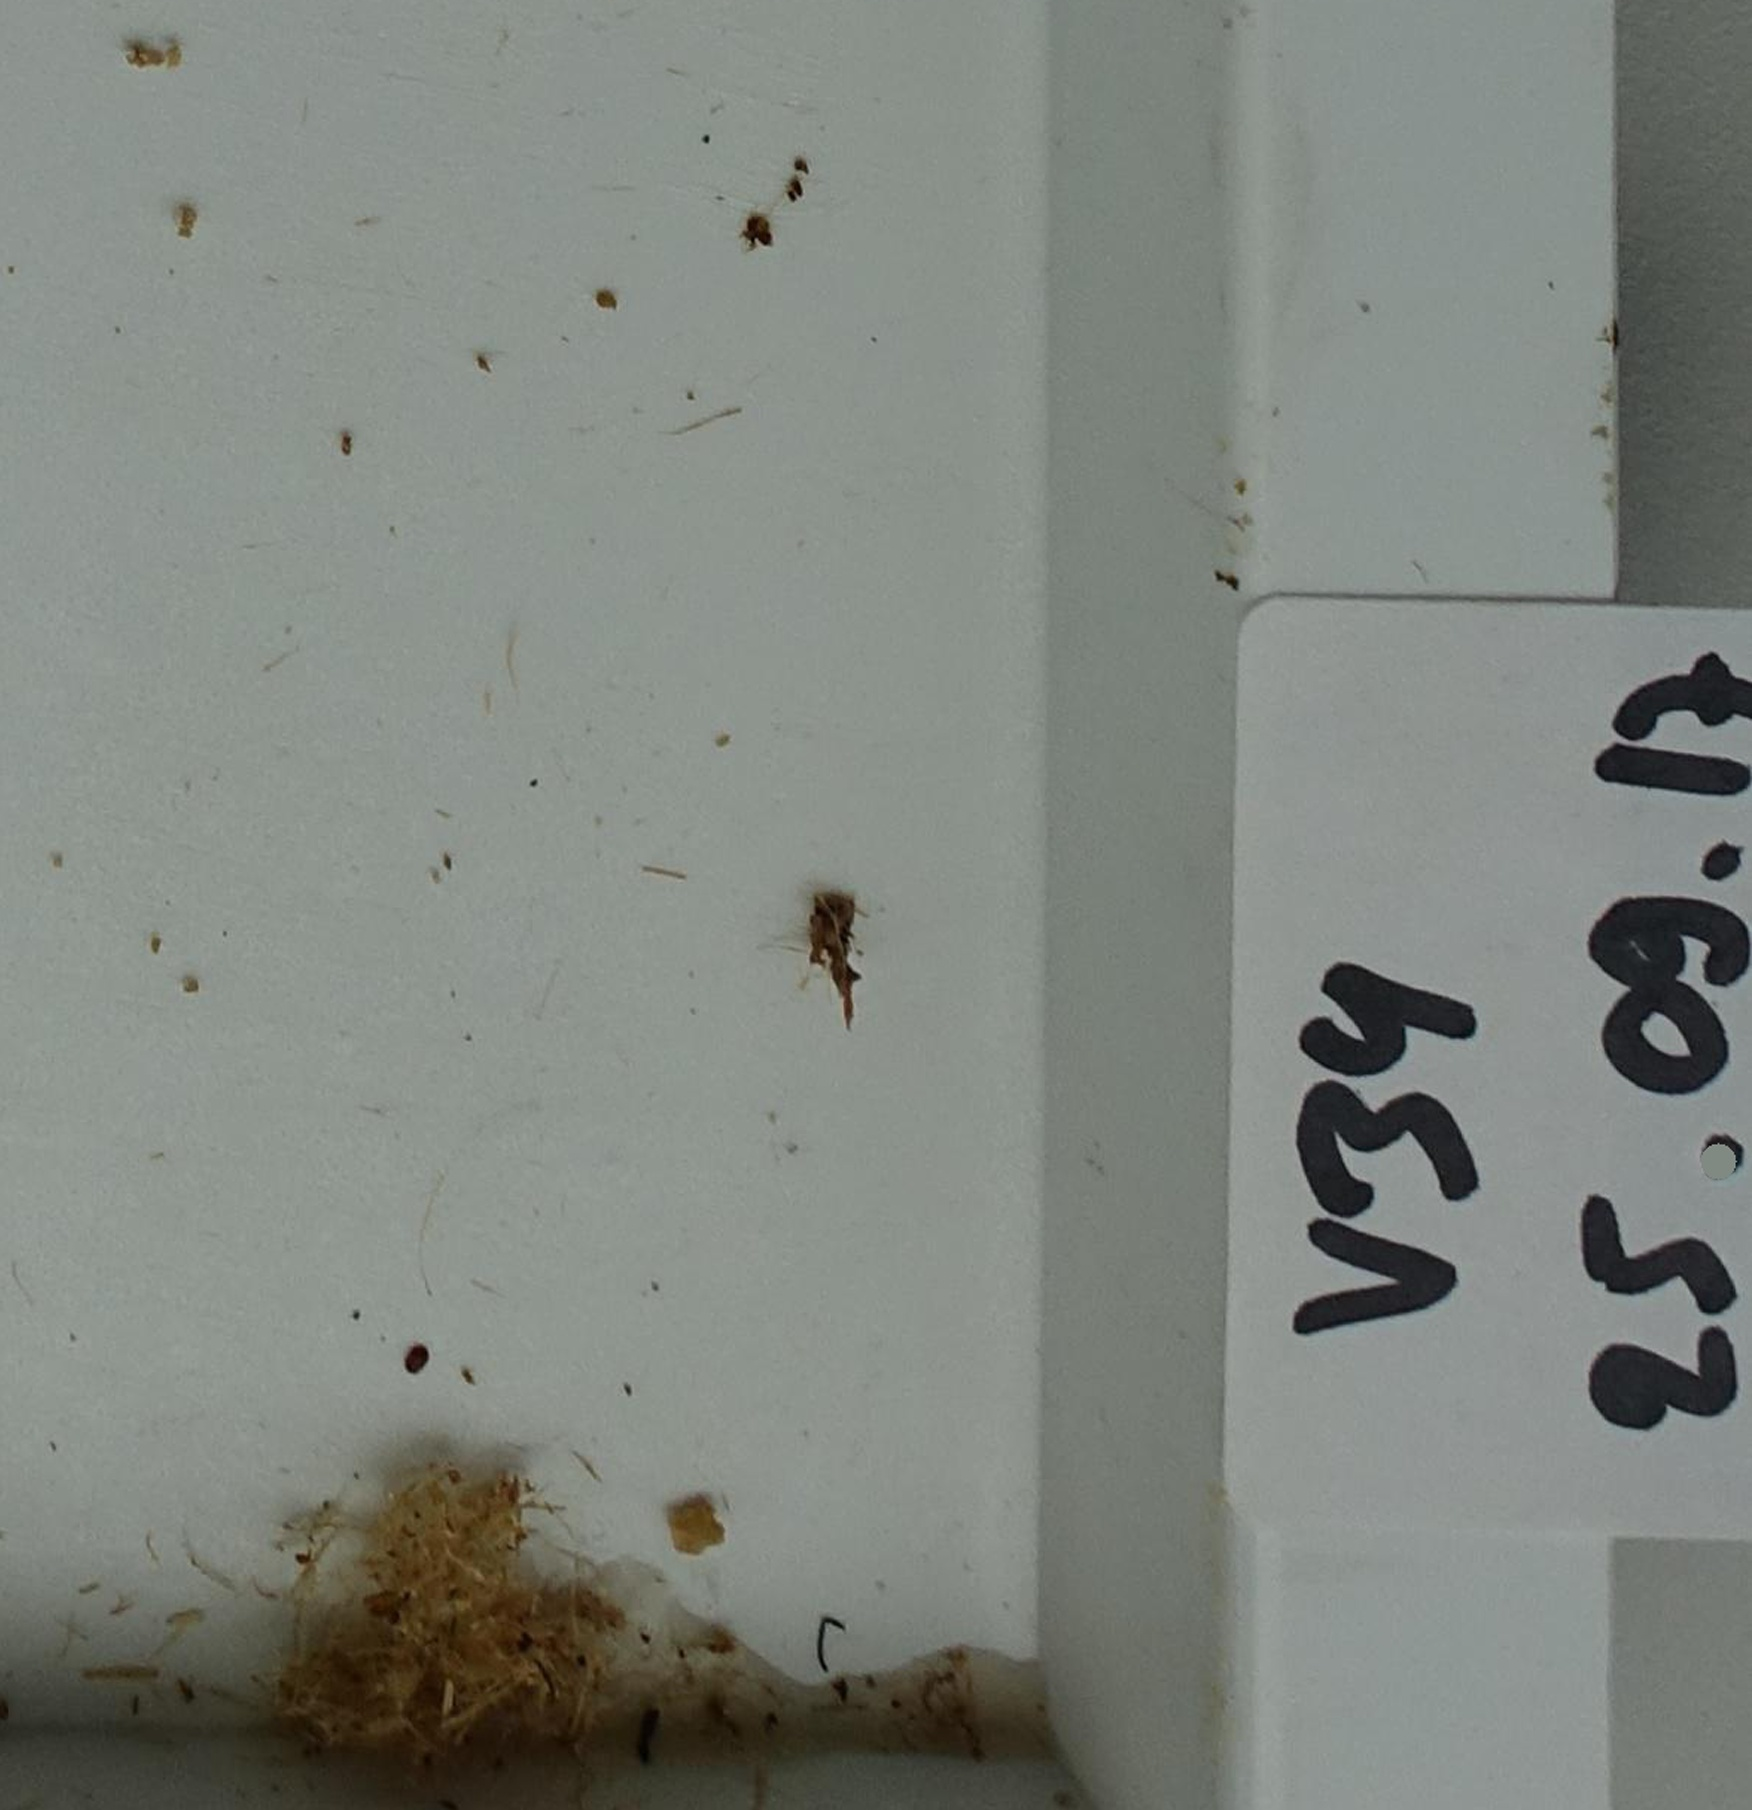Varroa: (1695, 840, 1739, 887), (399, 1346, 432, 1379)
